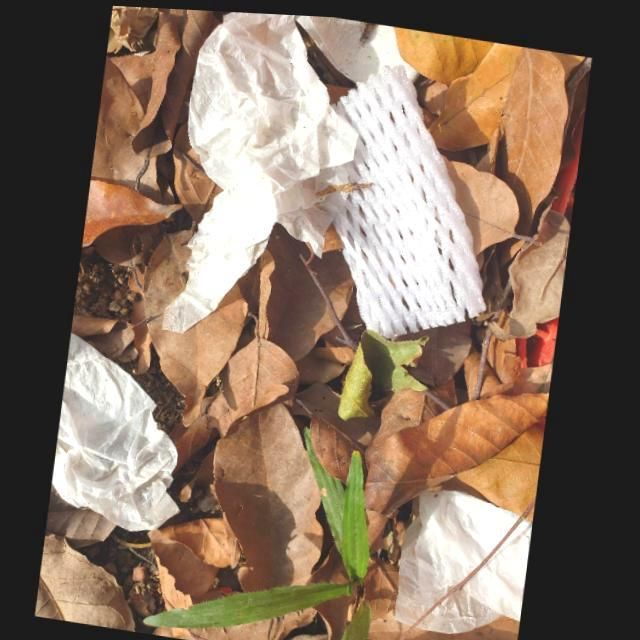paper: (163, 9, 359, 331), (53, 329, 182, 529), (397, 484, 534, 628), (294, 12, 419, 78)
